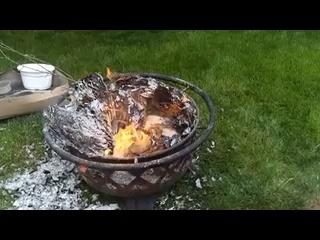Fire: (89, 91, 153, 148)
